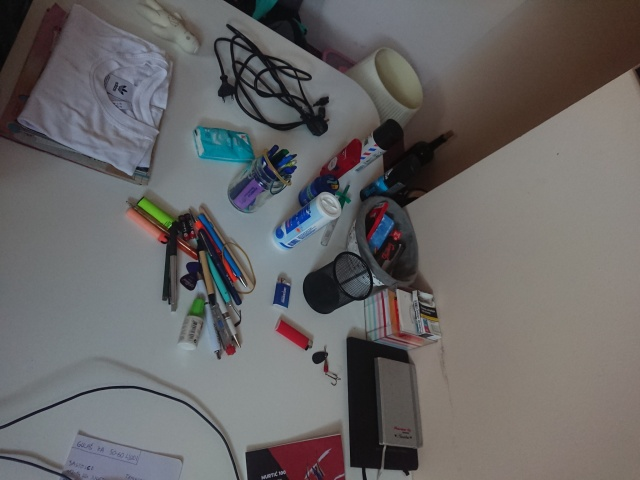Solana Pag Fine Sea Salt 250g: (269, 188, 343, 254)
